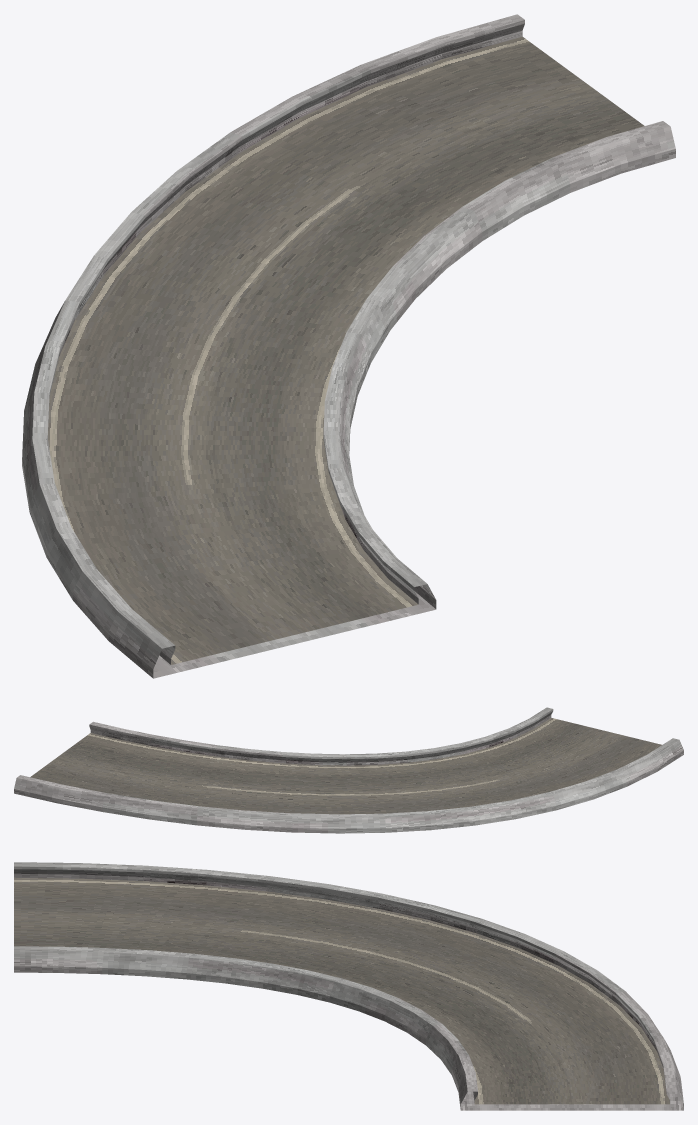
File: road-Turn-Flat-Flat-Up1-Right-Size3.glb
The picture shows the model from 3 angles, top to bottom: view 1: azimuth 30°, elevation 25°; view 2: azimuth 150°, elevation 25°; view 3: azimuth 270°, elevation 25°; orthographic projection. The views are drawn at different scales.
Visible parts, largest first — view 1: road-Turn-Flat-Flat-Up1-Right-Size3; view 2: road-Turn-Flat-Flat-Up1-Right-Size3; view 3: road-Turn-Flat-Flat-Up1-Right-Size3.
Boxes of the visible parts, x1=… form: road-Turn-Flat-Flat-Up1-Right-Size3: x1=22, y1=14, x2=675, y2=678; road-Turn-Flat-Flat-Up1-Right-Size3: x1=14, y1=707, x2=683, y2=833; road-Turn-Flat-Flat-Up1-Right-Size3: x1=14, y1=862, x2=683, y2=1110.
Bounding box in the file's own units: 3 × 0.3438 × 3.
2 materials, 2 textured.
